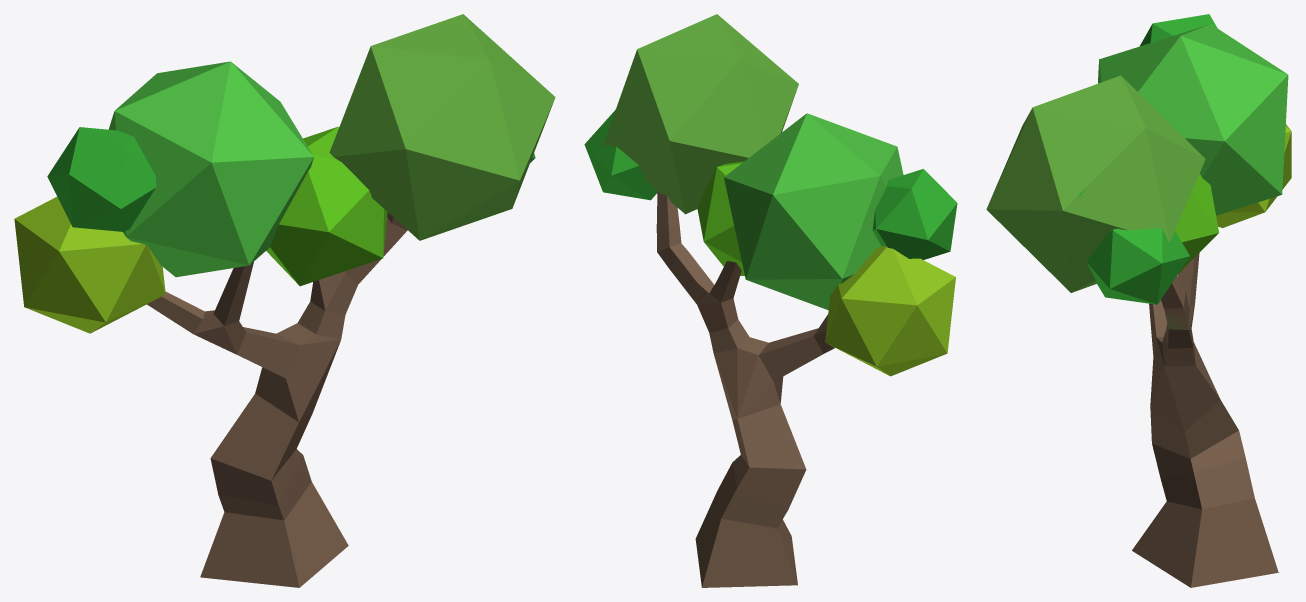
The model's file is Tree.fbx.
The picture shows the model from 3 angles, left to right: view 1: azimuth 30°, elevation 25°; view 2: azimuth 150°, elevation 25°; view 3: azimuth 270°, elevation 25°; orthographic projection. The views are drawn at different scales.
Parts seen in each view (by area): view 1: Tree; view 2: Tree; view 3: Tree.
Part boxes in pixels (x1,y1,x2,y2): Tree: (14, 14, 555, 587); Tree: (584, 14, 957, 587); Tree: (986, 14, 1291, 587).
Bounding box in the file's own units: 614 × 703 × 376.
1 material, 1 textured.
